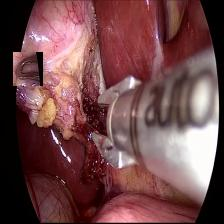Clipper: (88, 73, 180, 175)
Grasper: (13, 52, 43, 86)
